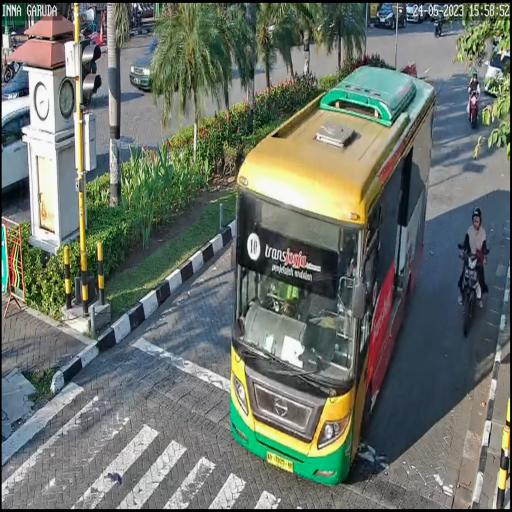mobil: (226, 69, 438, 480)
motor: (458, 240, 490, 336), (466, 84, 480, 130)
